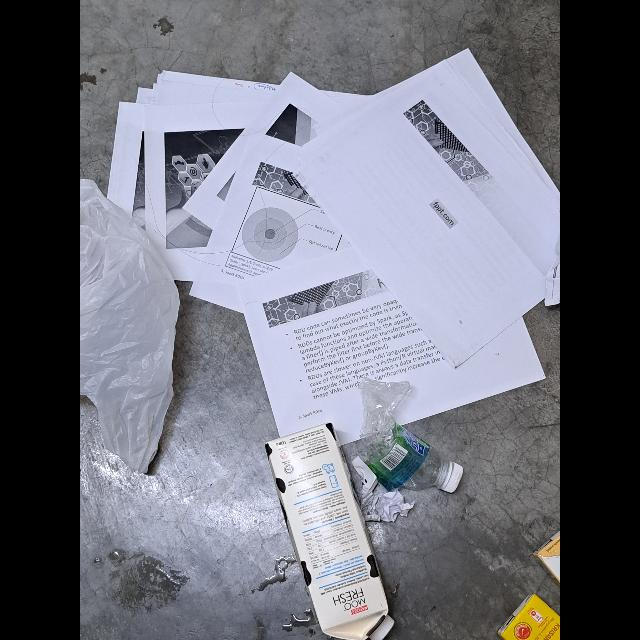caixinha: (266, 422, 396, 640), (498, 594, 560, 640), (538, 528, 560, 580)
garrafa plástica: (355, 378, 467, 490)
papel: (110, 44, 560, 438), (347, 454, 415, 526)
sacola plástica: (80, 177, 180, 477)
tampa plástica: (440, 460, 466, 490)
